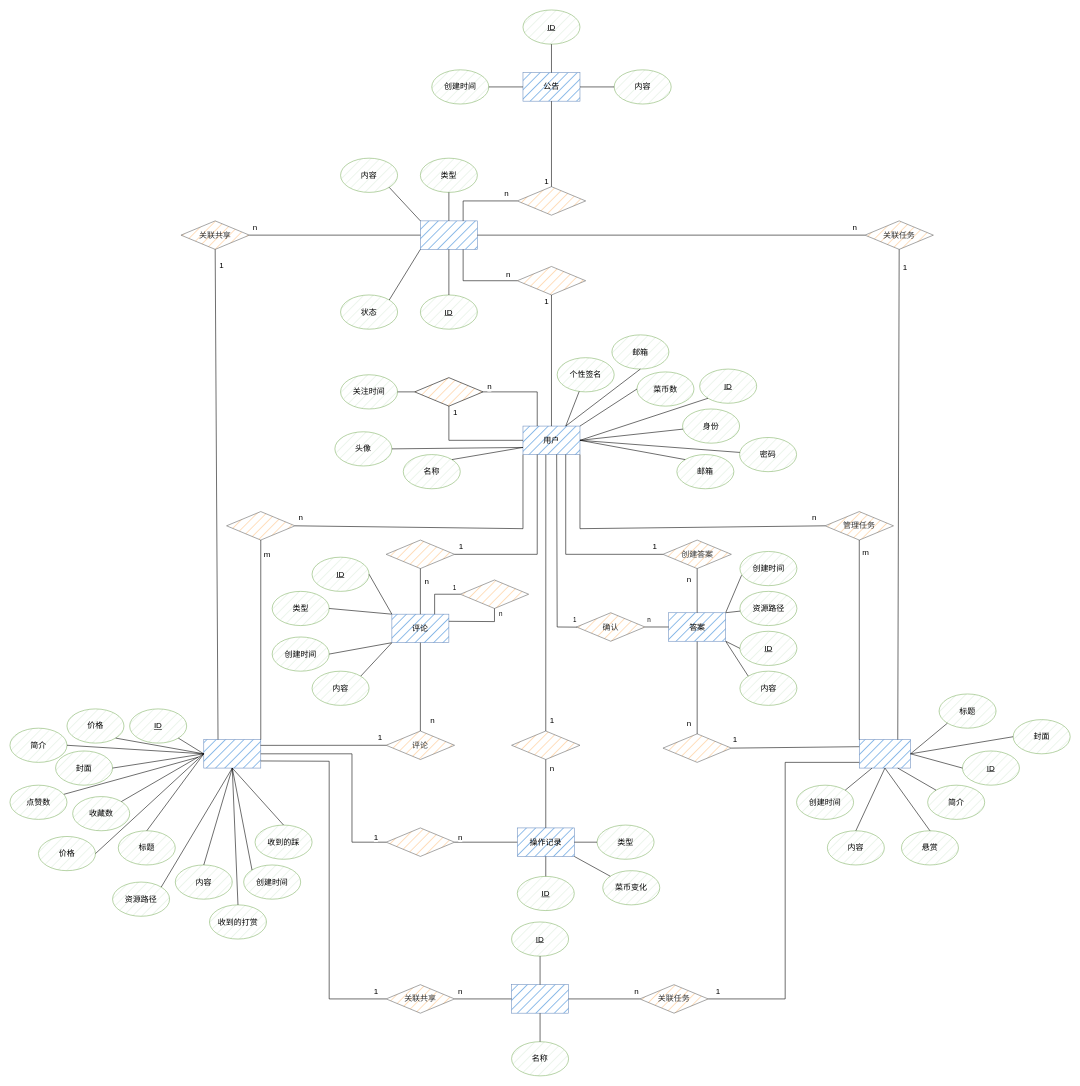
This 1080x1086 diagram has some shape labels left out. The shapes that lost their labels are listed below. From the top down, each one's box as (x1, y1, x2, y2) in pixels, then its label:
(517, 186, 586, 215): 关联公告
(420, 220, 477, 249): 消息
(517, 266, 586, 295): 收到
(414, 377, 483, 406): 关注
(226, 511, 295, 540): 管理共享
(386, 540, 455, 569): 创建评论
(460, 579, 529, 608): 回复评论
(203, 739, 261, 768): 共享贴
(511, 730, 580, 760): 产生
(662, 733, 731, 762): 回复
(859, 739, 911, 768): 任务贴
(386, 827, 455, 856): 记录
(511, 984, 569, 1013): 标签
